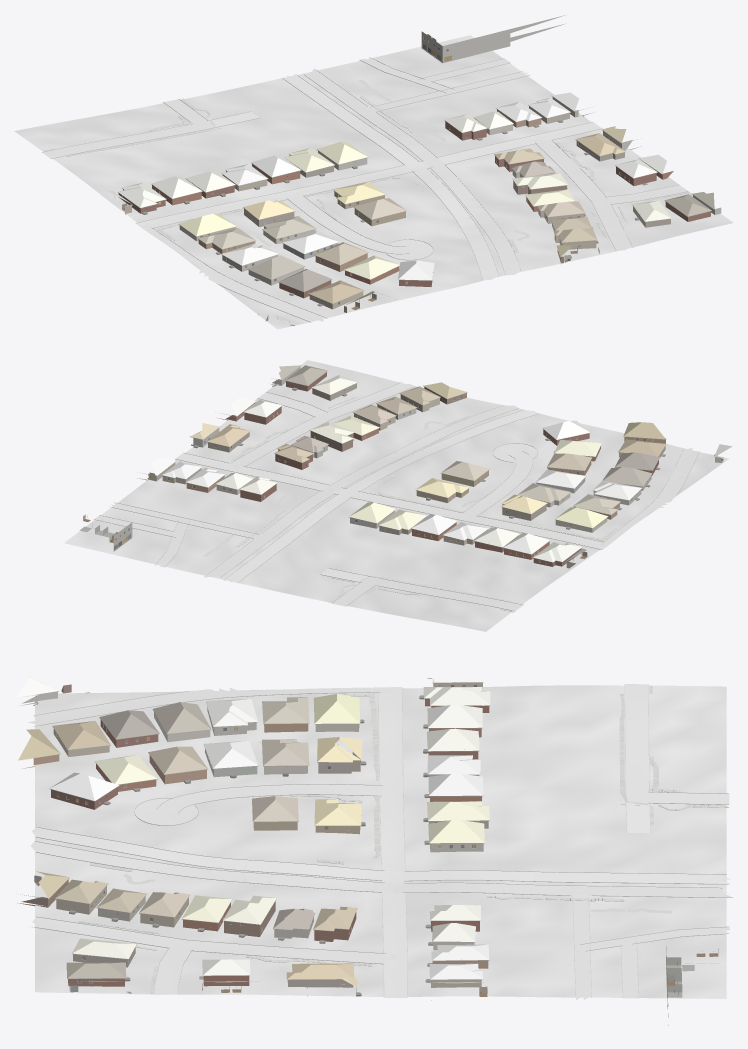
The picture shows the model from 3 angles, top to bottom: view 1: azimuth 30°, elevation 25°; view 2: azimuth 150°, elevation 25°; view 3: azimuth 270°, elevation 25°; orthographic projection. The views are drawn at different scales.
Parts seen in each view (by area): view 1: ground, roof, concrete, wall, asphalt, curb, detail, walk, wall_com, wall_stucco, wall_stone; view 2: ground, roof, concrete, asphalt, wall, curb, detail, walk, wall_stucco, wall_stone; view 3: ground, roof, concrete, asphalt, wall, curb, walk, detail, wall_stucco, room, wall_stone, mark_w (+1 smaller).
Part boxes in pixels (box(x1,y1,x2,y2)): ground: box(14, 35, 733, 329); roof: box(108, 92, 714, 323); concrete: box(42, 57, 687, 322); wall: box(118, 97, 710, 321); asphalt: box(285, 69, 520, 280); curb: box(42, 58, 688, 322); detail: box(114, 37, 714, 325); walk: box(43, 79, 688, 252); wall_com: box(421, 15, 565, 63); wall_stucco: box(179, 124, 555, 285); wall_stone: box(222, 131, 721, 271); ground: box(64, 360, 729, 631); roof: box(152, 365, 733, 562); concrete: box(95, 383, 699, 610); asphalt: box(204, 405, 537, 582); wall: box(137, 372, 665, 568); curb: box(94, 382, 699, 612); detail: box(85, 365, 723, 564); walk: box(203, 391, 616, 611); wall_stucco: box(216, 404, 651, 532); wall_stone: box(191, 367, 723, 528); ground: box(35, 685, 726, 998); roof: box(16, 660, 490, 986); concrete: box(28, 684, 729, 999); asphalt: box(30, 827, 733, 897); wall: box(17, 679, 489, 1000); curb: box(32, 684, 732, 997); walk: box(78, 685, 728, 993); detail: box(20, 678, 718, 996); wall_stucco: box(98, 712, 474, 950); room: box(34, 685, 718, 997); wall_stone: box(21, 691, 483, 996); mark_w: box(36, 687, 731, 963).
Bounding box in the file's own units: 296 × 16.6 × 260.
